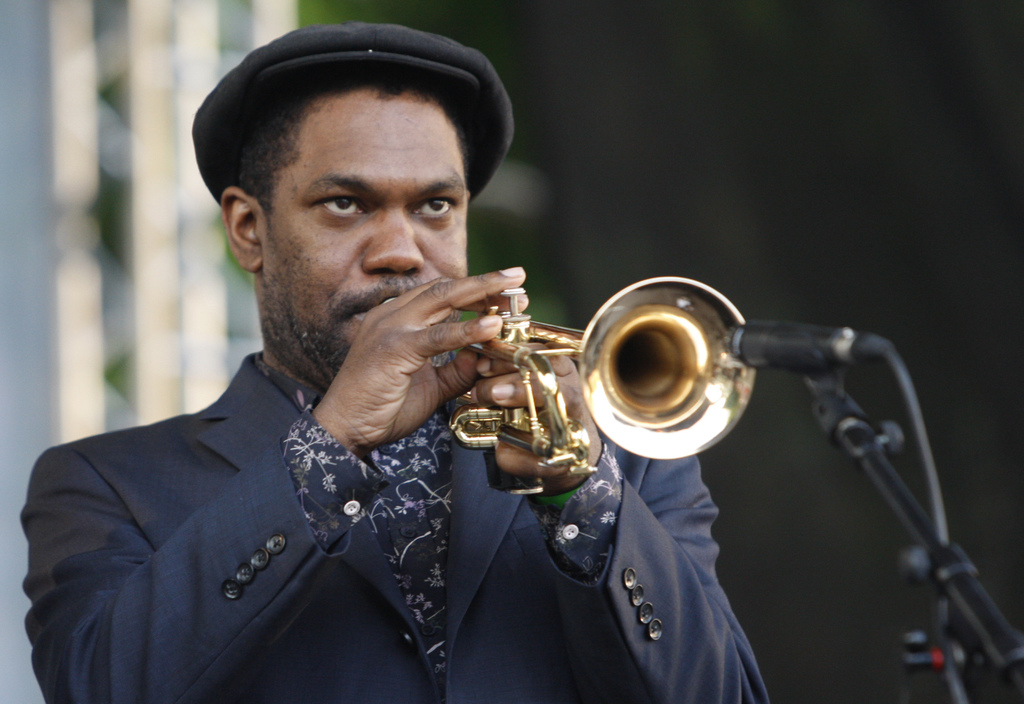Human_hand: (312, 265, 527, 452), (475, 310, 602, 490)
